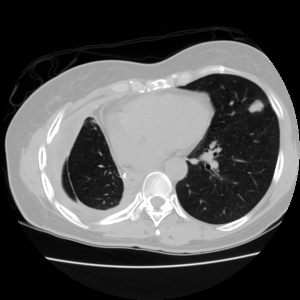nodule: (251, 100, 263, 112)
